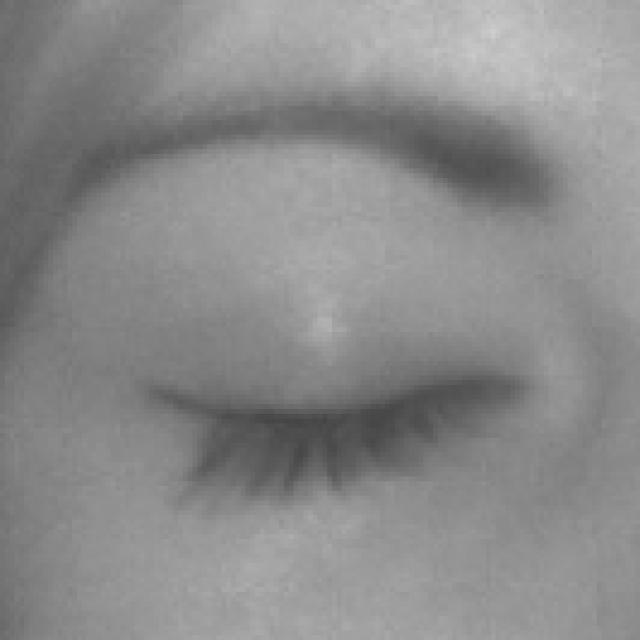Eyeclosed: (124, 209, 539, 590)
